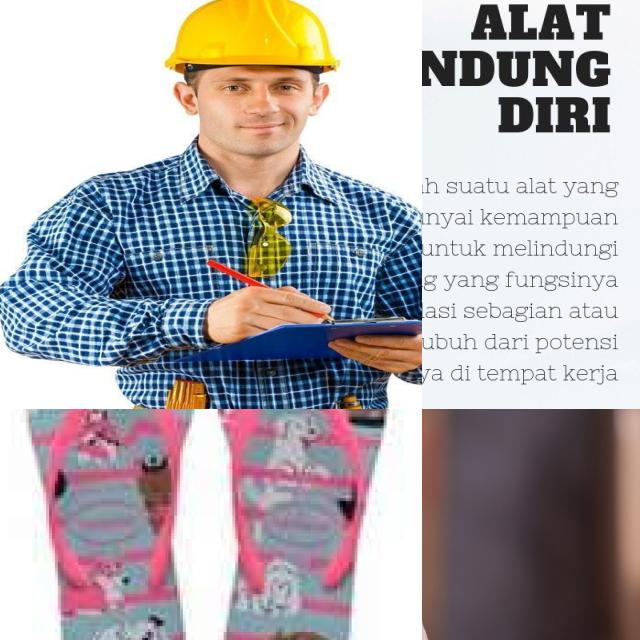No_Ear-Protection: (167, 46, 338, 155)
Sandals: (0, 409, 422, 640)
person: (422, 465, 612, 640)
